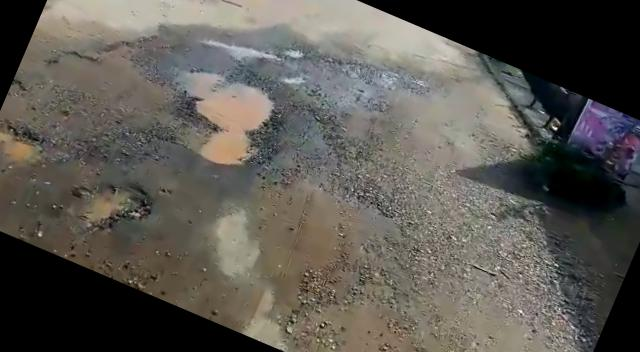pothole: (150, 51, 282, 175), (59, 162, 156, 254)
